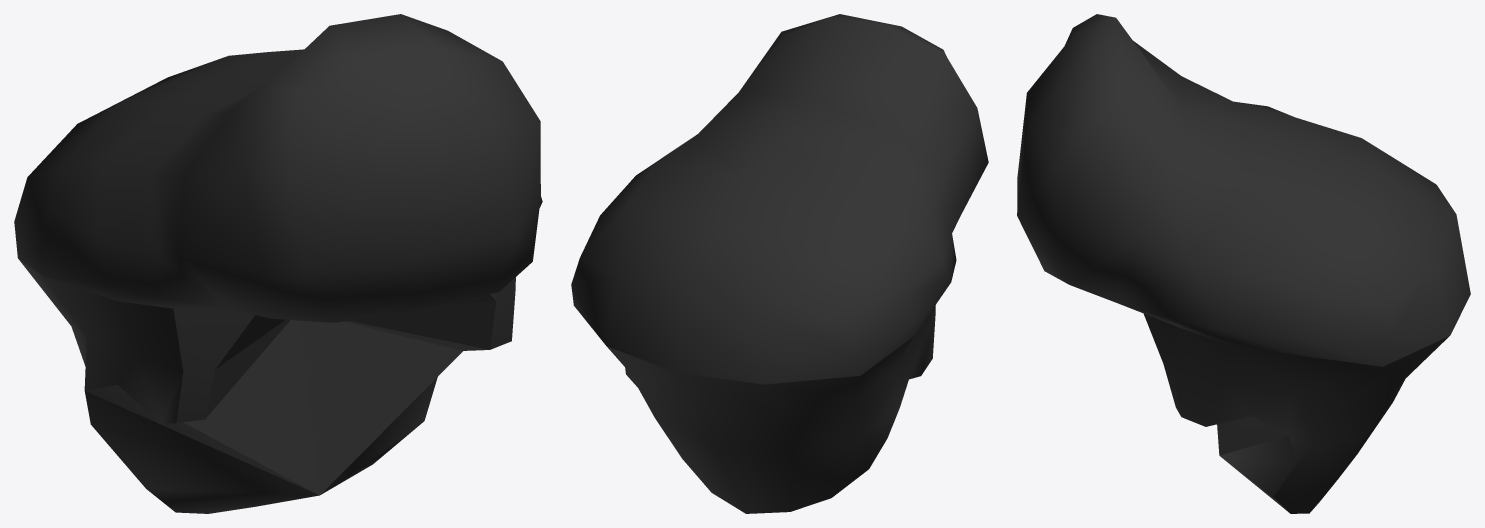
Rendered from Male_Hairs_07.fbx.
The picture shows the model from 3 angles, left to right: view 1: azimuth 30°, elevation 25°; view 2: azimuth 150°, elevation 25°; view 3: azimuth 270°, elevation 25°; orthographic projection. The views are drawn at different scales.
Visible parts, largest first — view 1: Male_Hairs_07; view 2: Male_Hairs_07; view 3: Male_Hairs_07.
Boxes of the visible parts, x1,y1,x2,y2 form: Male_Hairs_07: (14,14,542,513); Male_Hairs_07: (571,14,988,513); Male_Hairs_07: (1017,14,1470,513).
Size of the model in its own units: 67.67 by 85.55 by 76.11.
